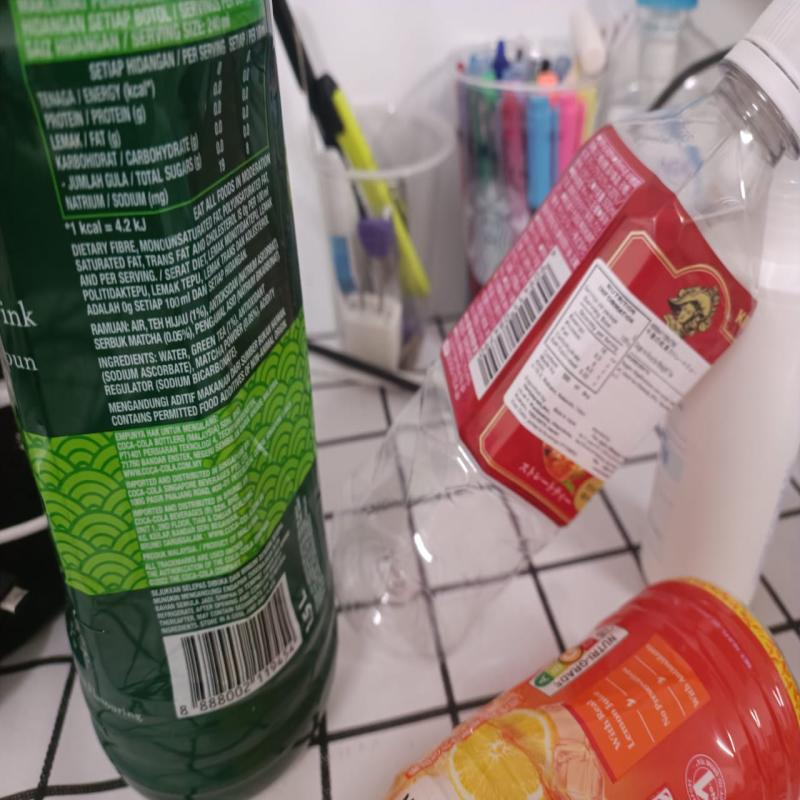botella: (308, 2, 800, 656), (0, 0, 338, 800), (355, 558, 800, 800)
